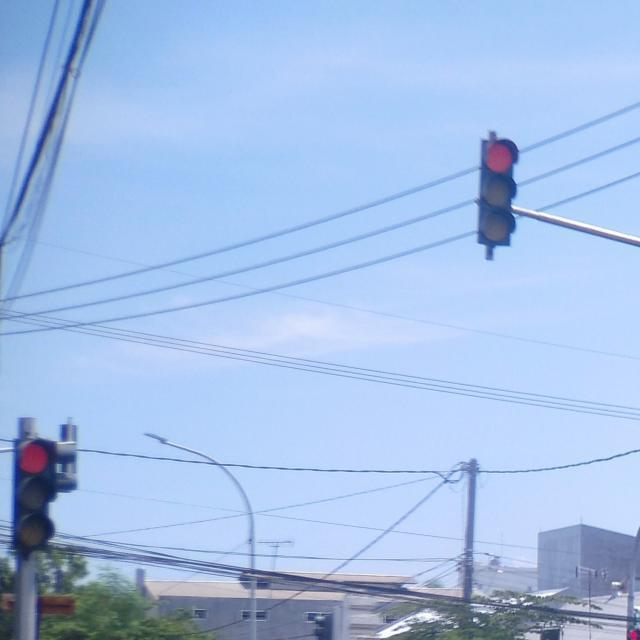red_light: (10, 420, 74, 551), (476, 129, 517, 257)
